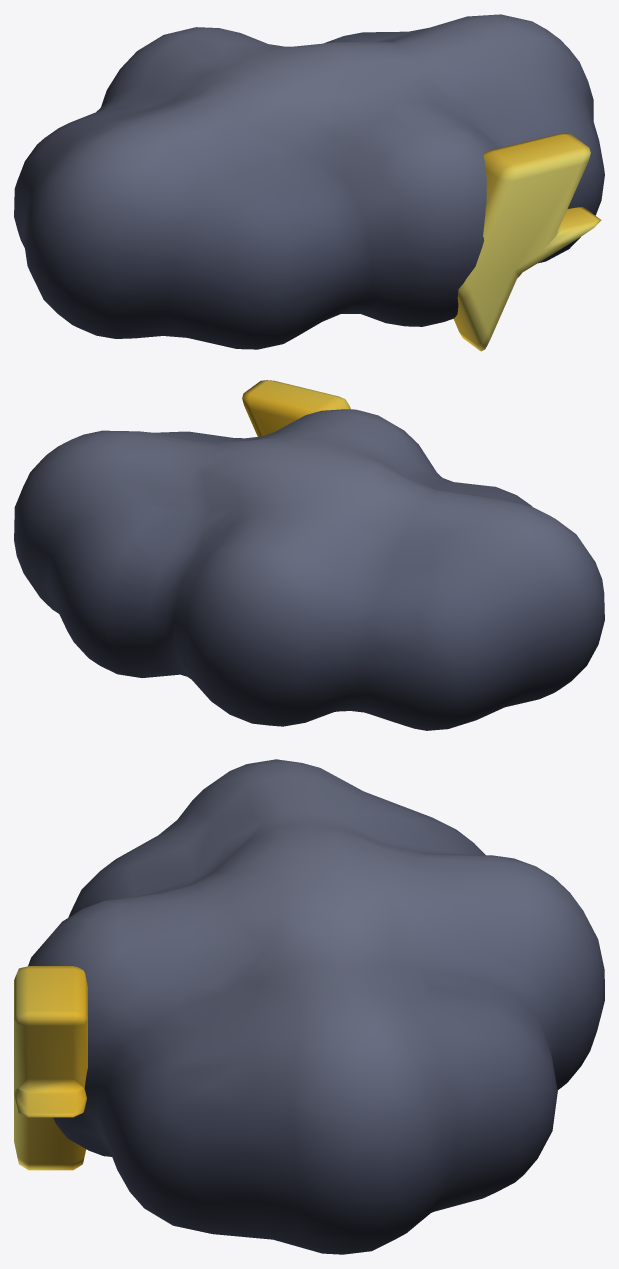
Rendered from pet_mount_storm_cloud.fbx.
The picture shows the model from 3 angles, top to bottom: view 1: azimuth 30°, elevation 25°; view 2: azimuth 150°, elevation 25°; view 3: azimuth 270°, elevation 25°; orthographic projection. The views are drawn at different scales.
Parts seen in each view (by area): view 1: pet_mount_storm_cloud; view 2: pet_mount_storm_cloud; view 3: pet_mount_storm_cloud.
Part boxes in pixels (x1,y1,x2,y2): pet_mount_storm_cloud: (14,14,604,351); pet_mount_storm_cloud: (14,380,604,730); pet_mount_storm_cloud: (14,759,604,1254).
Bounding box in the file's own units: 3.3 × 1.23 × 2.4.
